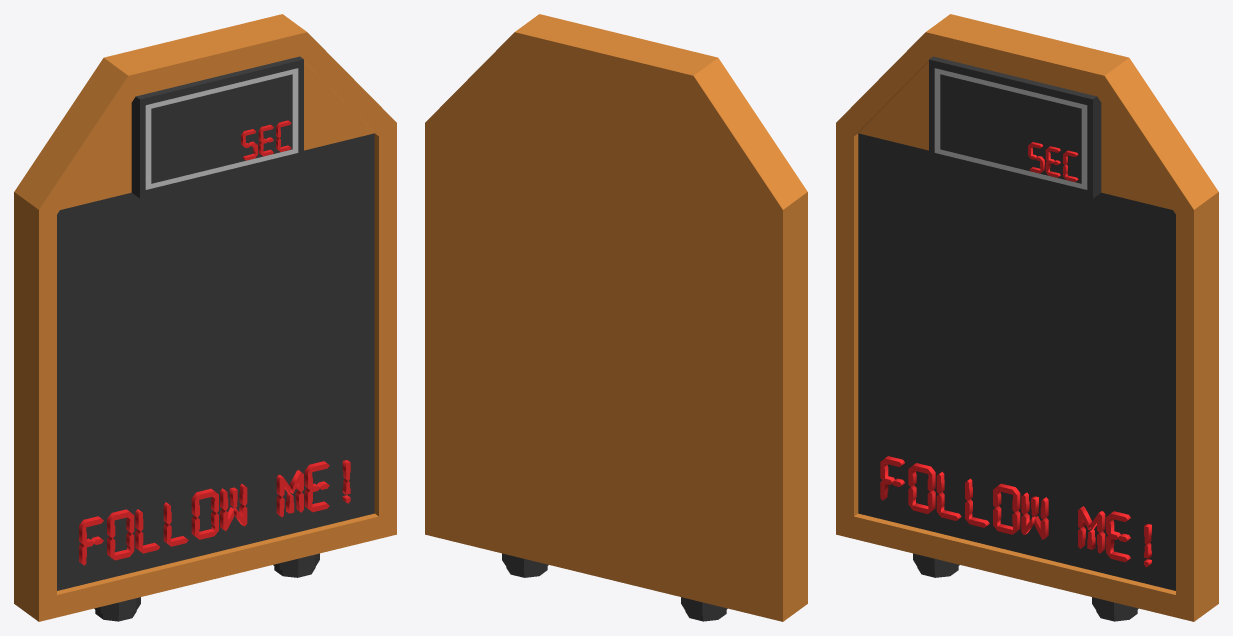
The model's file is TileBoardV2 4x6x0.5.fbx.
3 views of the same model, side by side, from view 1: azimuth 30°, elevation 25°; view 2: azimuth 150°, elevation 25°; view 3: azimuth 330°, elevation 25° (orthographic).
Visible parts, largest first — view 1: Board; view 2: Board; view 3: Board.
Boxes of the visible parts, bbox=[...] form: Board: bbox=[14, 14, 396, 621]; Board: bbox=[425, 14, 807, 621]; Board: bbox=[836, 14, 1218, 621].
Bounding box in the file's own units: 5 × 7.3 × 0.7475.
